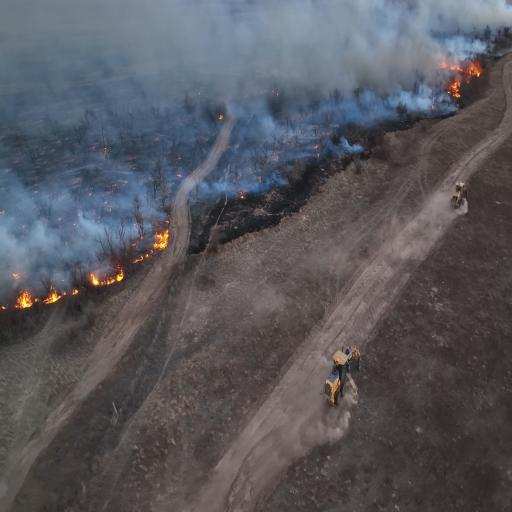smoke: (0, 0, 279, 95), (300, 0, 429, 83), (0, 192, 87, 292)
